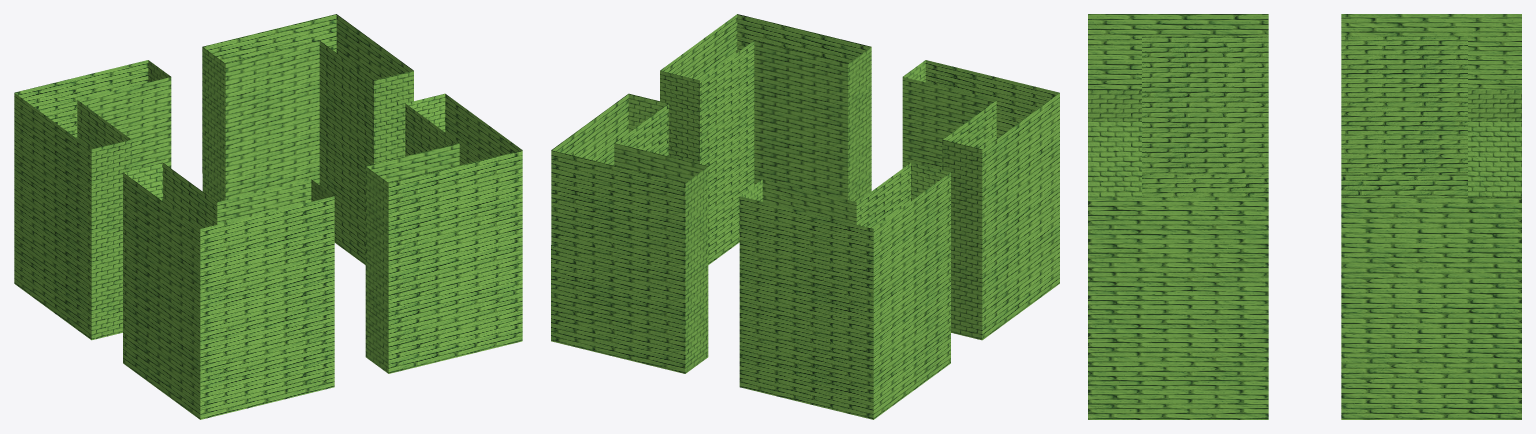
The model's file is Arches_Rm_Coll.fbx.
3 views of the same model, side by side, from view 1: azimuth 30°, elevation 25°; view 2: azimuth 150°, elevation 25°; view 3: azimuth 270°, elevation 25° (orthographic). The views are drawn at different scales.
Parts seen in each view (by area): view 1: P_Arches_Rm_Coll; view 2: P_Arches_Rm_Coll; view 3: P_Arches_Rm_Coll.
Boxes of the visible parts, x1=… form: P_Arches_Rm_Coll: x1=14, y1=14, x2=522, y2=419; P_Arches_Rm_Coll: x1=551, y1=14, x2=1059, y2=419; P_Arches_Rm_Coll: x1=1088, y1=14, x2=1521, y2=419.
Bounding box in the file's own units: 20.69 × 11.71 × 20.68.
